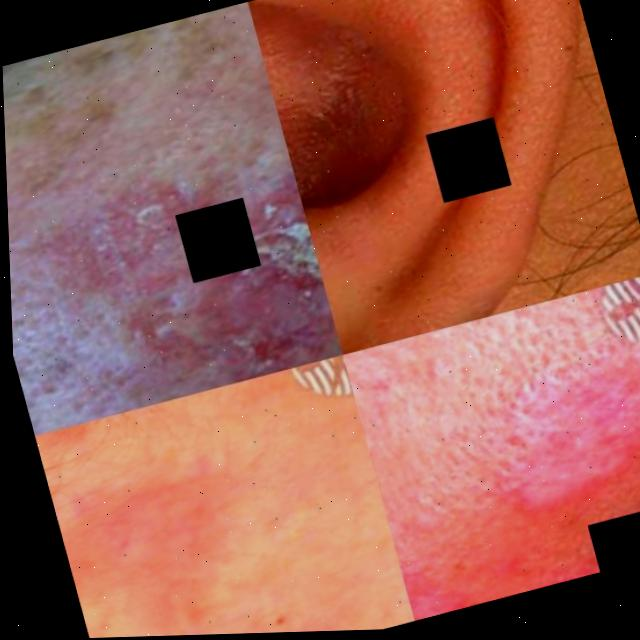lupus-detected: (1, 25, 345, 436), (31, 352, 415, 639), (403, 272, 640, 605), (266, 53, 400, 330)
